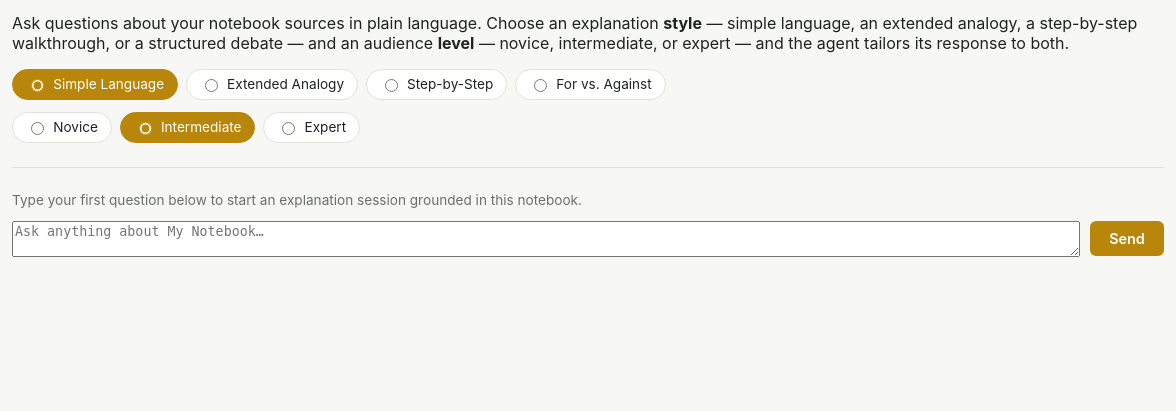
Test: ExplainTab › shows a failure status when runExplainTurn itself rejects
expect the text "Type your first question" is shown: met, box [12,192,582,208]
Type "What is X?" into the text box named "Message" at (546,239), box [12,221,1080,257]
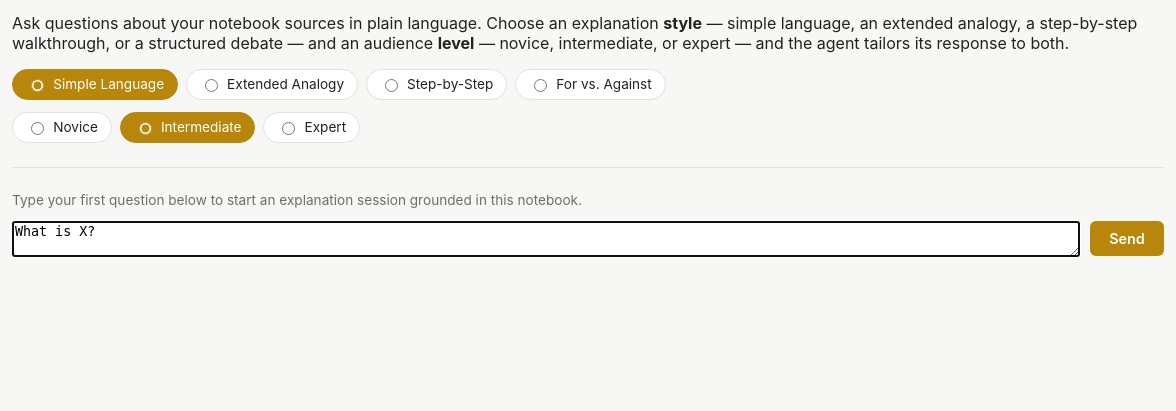
Click the button "Send" at (1127,238), box [1090,221,1164,256]
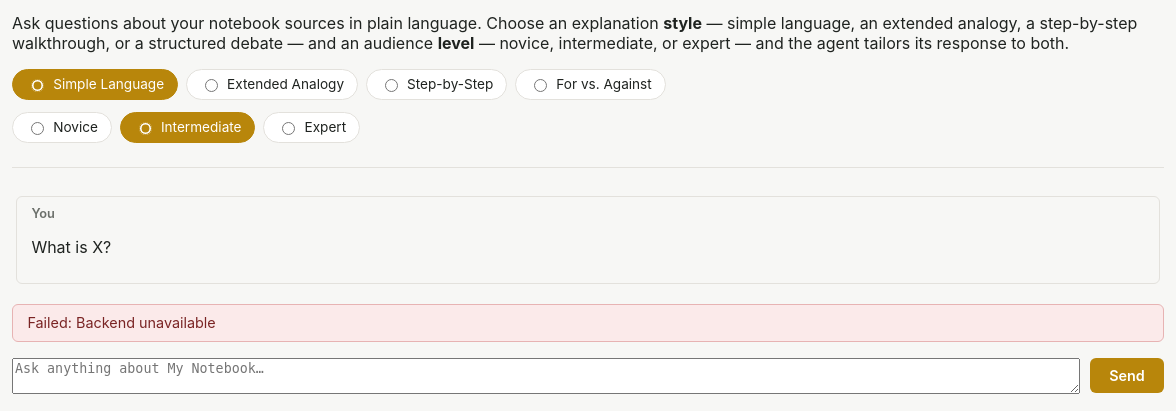
expect the text "Failed: Backend unavailable" is shown: met, box [27,314,216,331]
